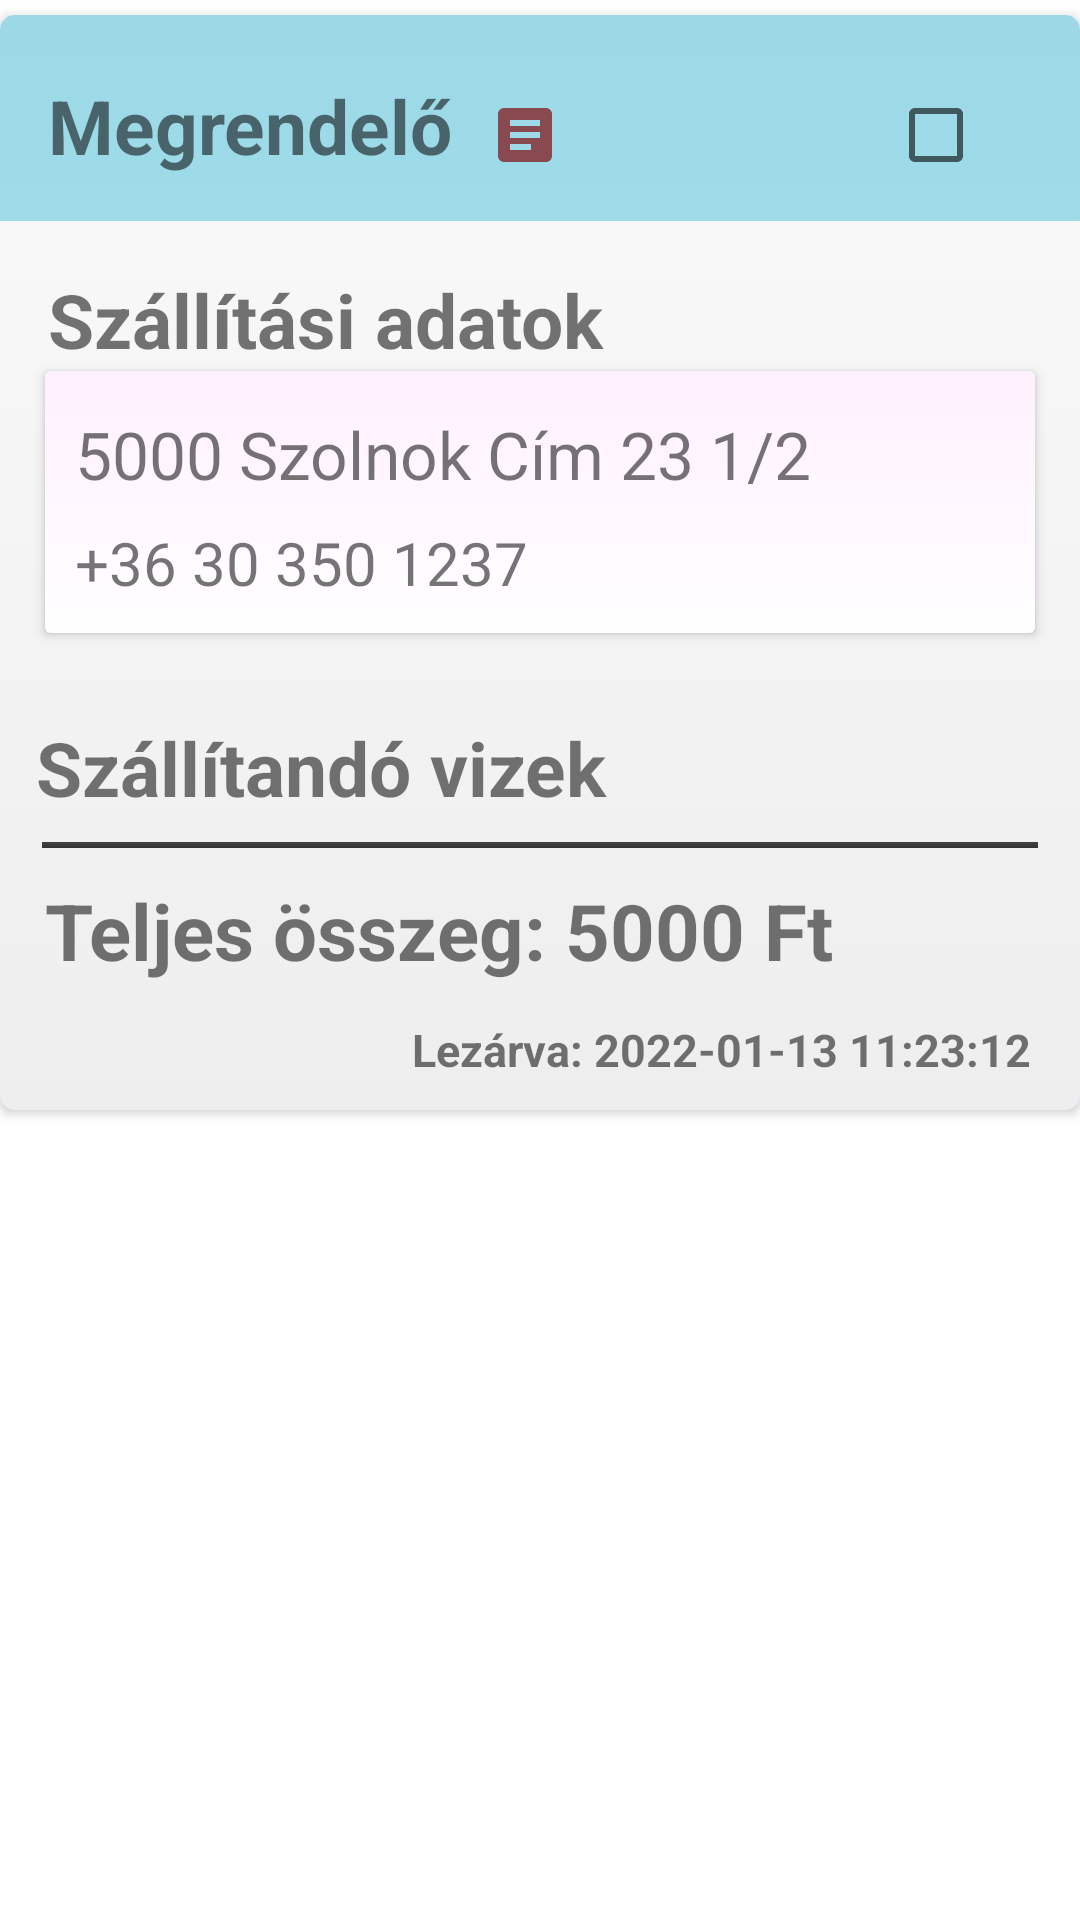

Icon click points for this 1080*1920 phone screenshot, format point (x, y):
paper: point (525, 135)
